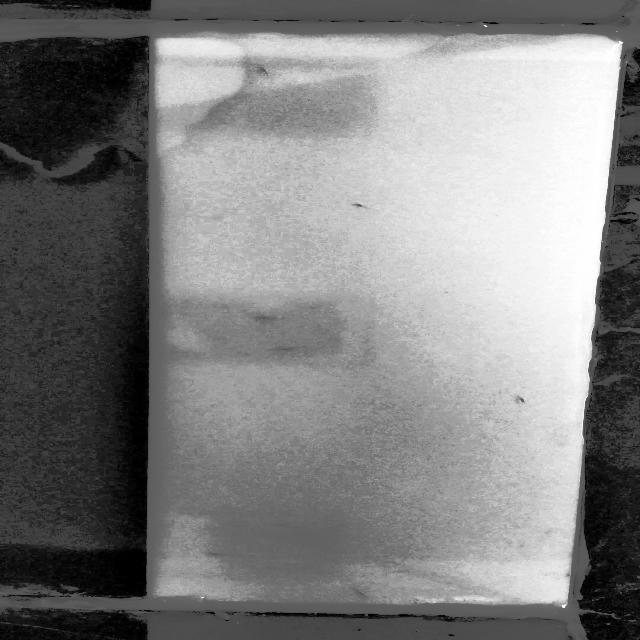shrimp: (506, 390, 536, 406), (248, 313, 294, 321), (256, 65, 277, 78), (270, 345, 300, 353), (276, 524, 310, 531), (348, 202, 375, 210), (350, 588, 370, 598), (207, 551, 220, 557)
